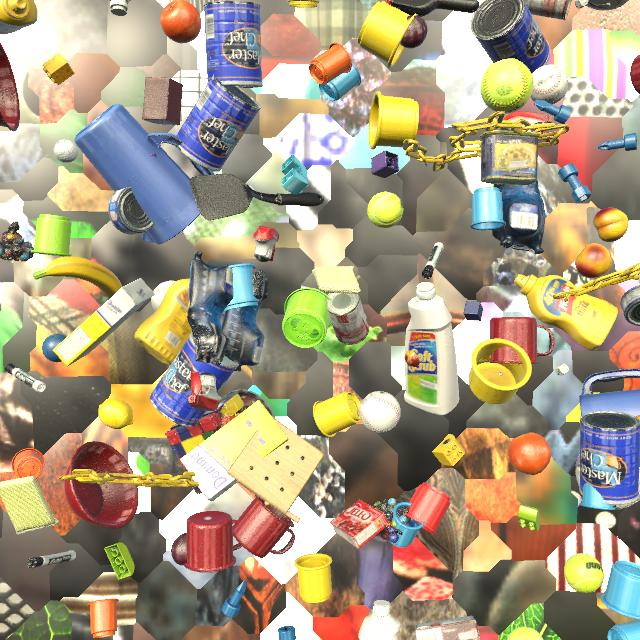ycb_002_master_chef_can: (150, 333, 239, 427), (176, 74, 261, 172), (471, 0, 551, 74), (579, 411, 640, 505), (204, 0, 263, 88)
ycb_004_sugar_box: (180, 400, 288, 501), (53, 278, 155, 366)
ycb_005_tomato_soup_can: (326, 293, 369, 345), (524, 0, 572, 21)
ycb_006_mustard_bottle: (514, 274, 618, 351), (134, 279, 192, 365), (0, 0, 37, 35)
ycb_007_tuna_fish_can: (108, 187, 154, 234), (620, 285, 640, 326)
ycb_008_pudding_box: (415, 616, 480, 640)
ycb_009_gelatin_box: (330, 500, 387, 549)
ycb_010_potted_meat_can: (479, 130, 540, 185)
ycb_011_banana: (33, 256, 123, 299)
ycb_014_lemon: (98, 398, 133, 429)
ycb_015_peach: (575, 243, 612, 278), (593, 208, 629, 242), (636, 415, 640, 419)
ycb_017_orange: (508, 433, 551, 475), (160, 0, 201, 43)
ycb_018_plum: (400, 15, 428, 48), (171, 533, 187, 566)
